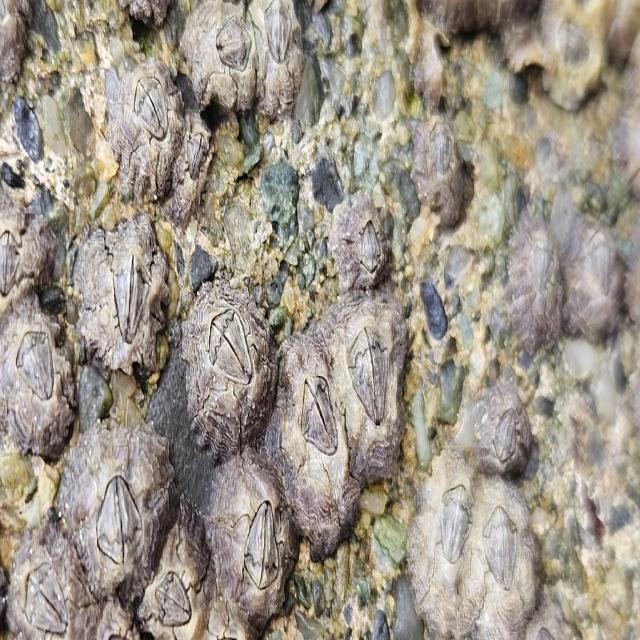barnacles: (176, 277, 278, 461), (268, 338, 356, 550), (72, 412, 161, 587), (204, 460, 294, 629), (324, 311, 409, 484), (78, 225, 170, 375), (414, 455, 480, 627), (555, 199, 626, 348), (474, 482, 544, 632), (111, 52, 182, 198), (3, 528, 96, 636), (0, 318, 72, 451), (183, 0, 258, 124), (506, 187, 559, 362), (461, 379, 543, 481), (324, 188, 396, 293), (411, 110, 473, 225), (134, 542, 208, 638), (248, 0, 306, 121), (0, 218, 48, 306), (172, 124, 214, 216)
